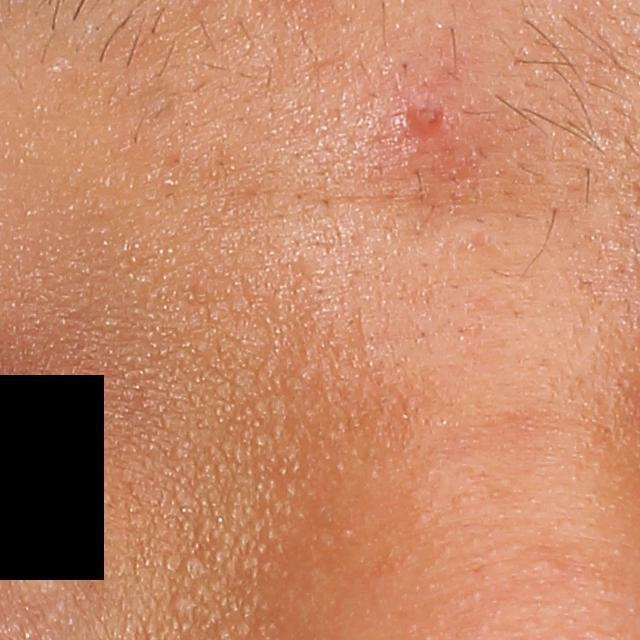comedo: (169, 592, 196, 615)
